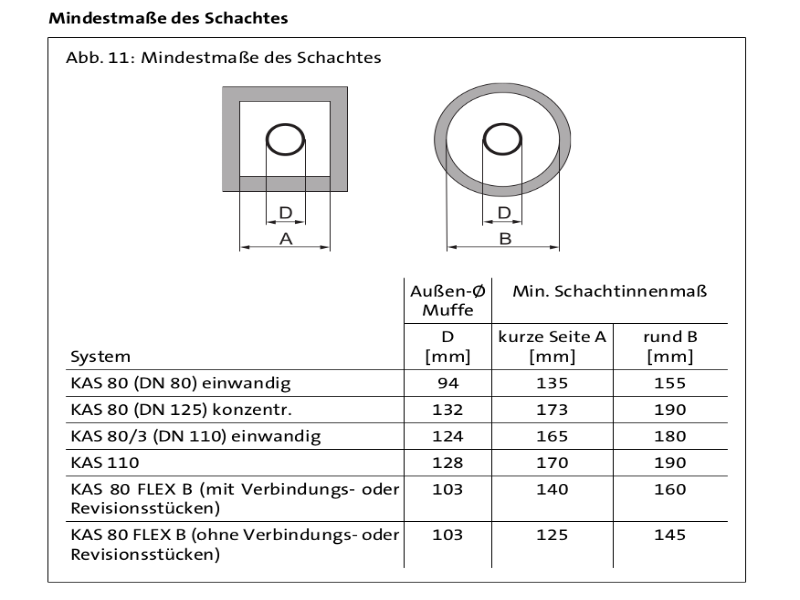borederless: (60, 262, 742, 573)
cell: (62, 525, 400, 566), (62, 479, 402, 517), (500, 279, 723, 319), (63, 425, 330, 446), (495, 523, 611, 566), (64, 374, 302, 394), (618, 523, 731, 563), (496, 327, 610, 366), (63, 400, 302, 418), (620, 327, 728, 365), (497, 479, 610, 515), (408, 524, 488, 566), (407, 328, 489, 366), (407, 281, 488, 318), (62, 451, 181, 474), (616, 399, 732, 420), (617, 425, 733, 446), (495, 398, 610, 419), (618, 371, 731, 392), (494, 451, 611, 471), (495, 373, 607, 393), (496, 425, 610, 444), (616, 453, 734, 471), (64, 344, 148, 366), (407, 399, 489, 420), (407, 452, 488, 471), (407, 427, 490, 445), (407, 374, 488, 392)
